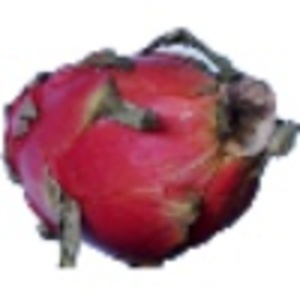pitaia: (1, 28, 300, 270)
